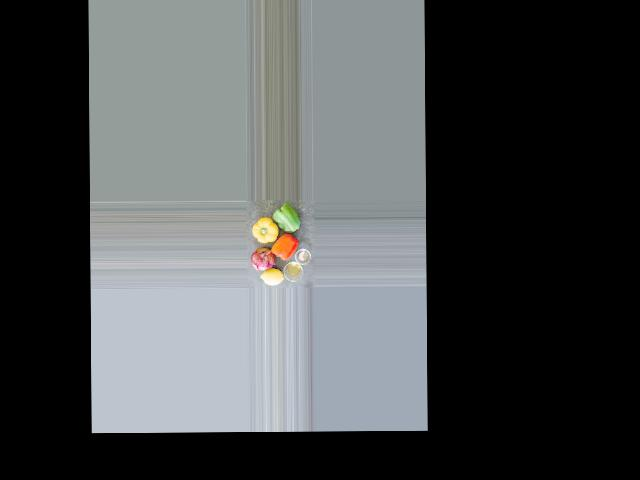bell_pepper: (270, 234, 299, 260)
